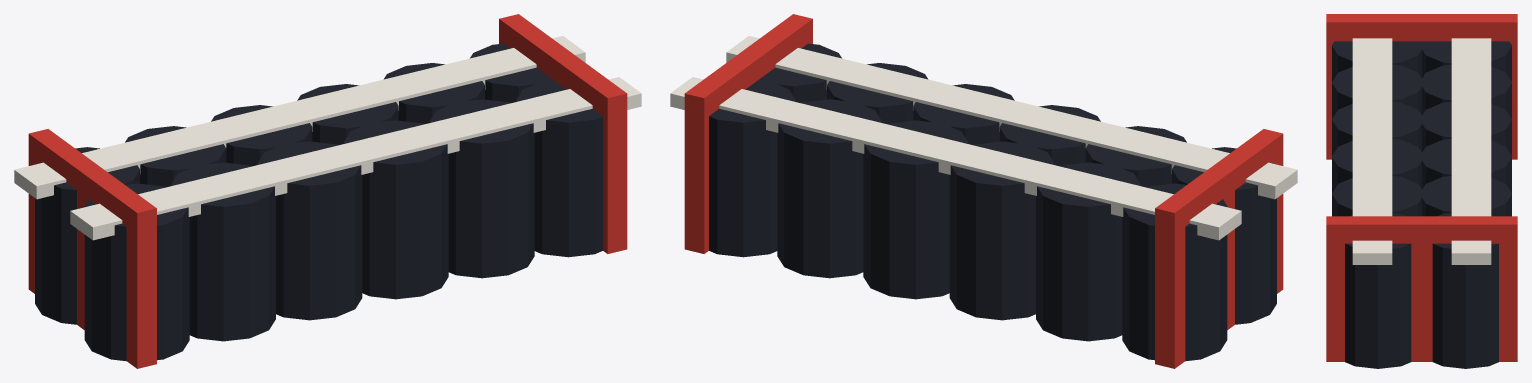
Rendered from tyreStack.glb.
3 views of the same model, side by side, from view 1: azimuth 30°, elevation 25°; view 2: azimuth 150°, elevation 25°; view 3: azimuth 270°, elevation 25° (orthographic). The views are drawn at different scales.
Visible parts, largest first — view 1: tyreStack_black, tyreStack_white, tyreStack_red; view 2: tyreStack_black, tyreStack_white, tyreStack_red; view 3: tyreStack_black, tyreStack_red, tyreStack_white.
Part boxes in pixels (x1,y1,x2,y2): tyreStack_black: (35,43,602,361); tyreStack_white: (14,36,641,240); tyreStack_red: (28,14,627,368); tyreStack_black: (709,43,1276,361); tyreStack_white: (670,36,1297,240); tyreStack_red: (684,14,1283,368); tyreStack_black: (1332,41,1511,368); tyreStack_red: (1326,14,1517,361); tyreStack_white: (1352,38,1491,264).
Bounding box in the file's own units: 7 × 1.9 × 2.4.
